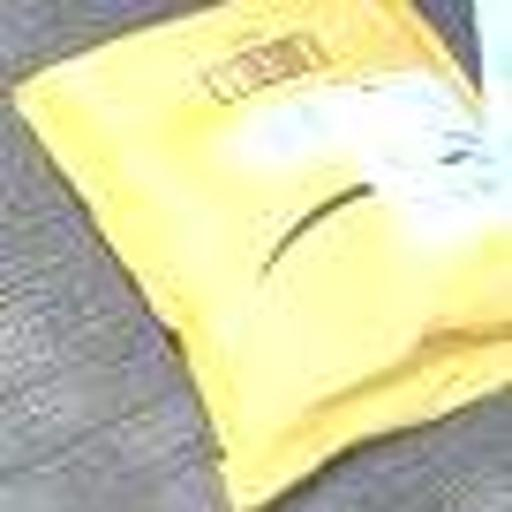Amazon: (17, 0, 512, 501)
